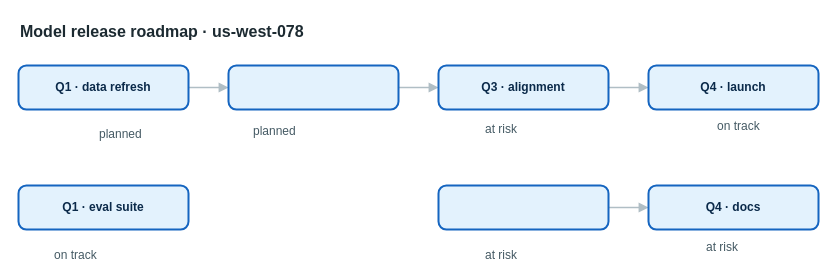
Image size: 836x280. Some labels were removed from this diagram. The box of each missing label's shape, as (x1, y1, x2, y2) in pixels:
Q2 · pretrain: (227, 64, 399, 110)
Q3 · serving: (437, 184, 609, 230)
